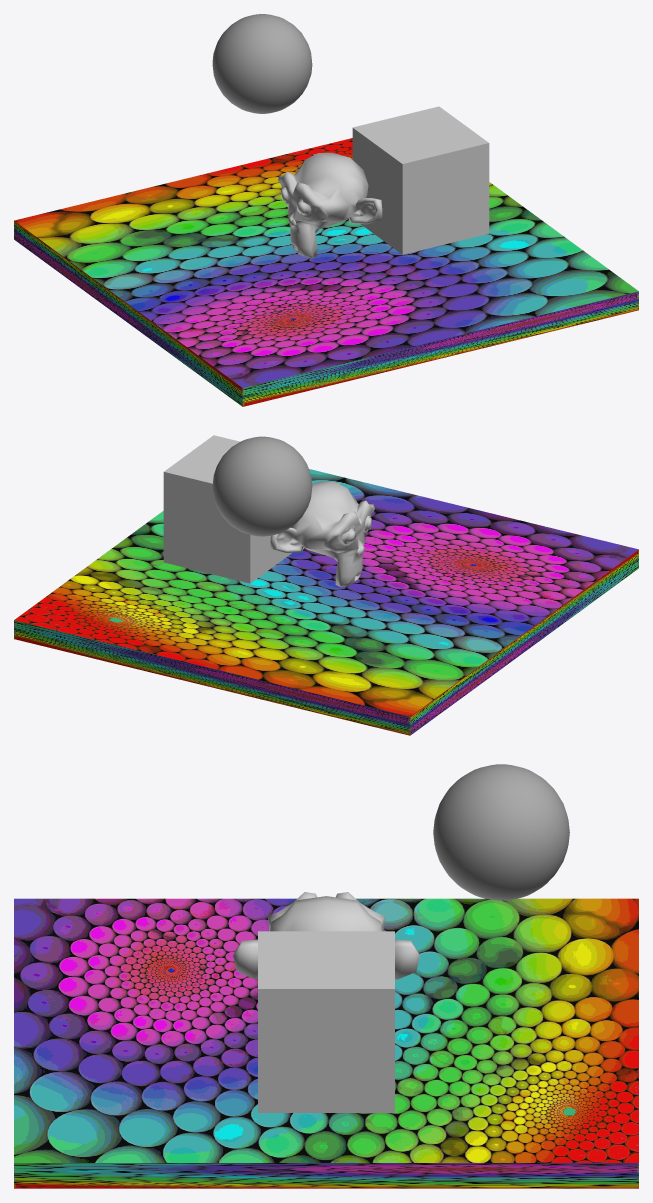
3 views of the same model, one above another, from view 1: azimuth 30°, elevation 25°; view 2: azimuth 150°, elevation 25°; view 3: azimuth 270°, elevation 25° (orthographic). The views are drawn at different scales.
Visible parts, largest first — view 1: Cube, Cube.001, Sphere, Suzanne; view 2: Cube, Cube.001, Sphere, Suzanne; view 3: Cube, Cube.001, Sphere, Suzanne.
Boxes of the visible parts, x1=… form: Cube: x1=14, y1=138, x2=638, y2=406; Cube.001: x1=352, y1=106, x2=489, y2=254; Sphere: x1=212, y1=14, x2=312, y2=113; Suzanne: x1=278, y1=152, x2=382, y2=258; Cube: x1=14, y1=469, x2=638, y2=735; Cube.001: x1=163, y1=435, x2=291, y2=583; Sphere: x1=212, y1=436, x2=312, y2=536; Suzanne: x1=270, y1=481, x2=374, y2=587; Cube: x1=14, y1=898, x2=638, y2=1188; Cube.001: x1=258, y1=931, x2=394, y2=1112; Sphere: x1=433, y1=764, x2=569, y2=900; Suzanne: x1=233, y1=892, x2=419, y2=979.
Size of the model in its own units: 86.33 by 43.59 by 86.33.
3 materials, 1 textured.
